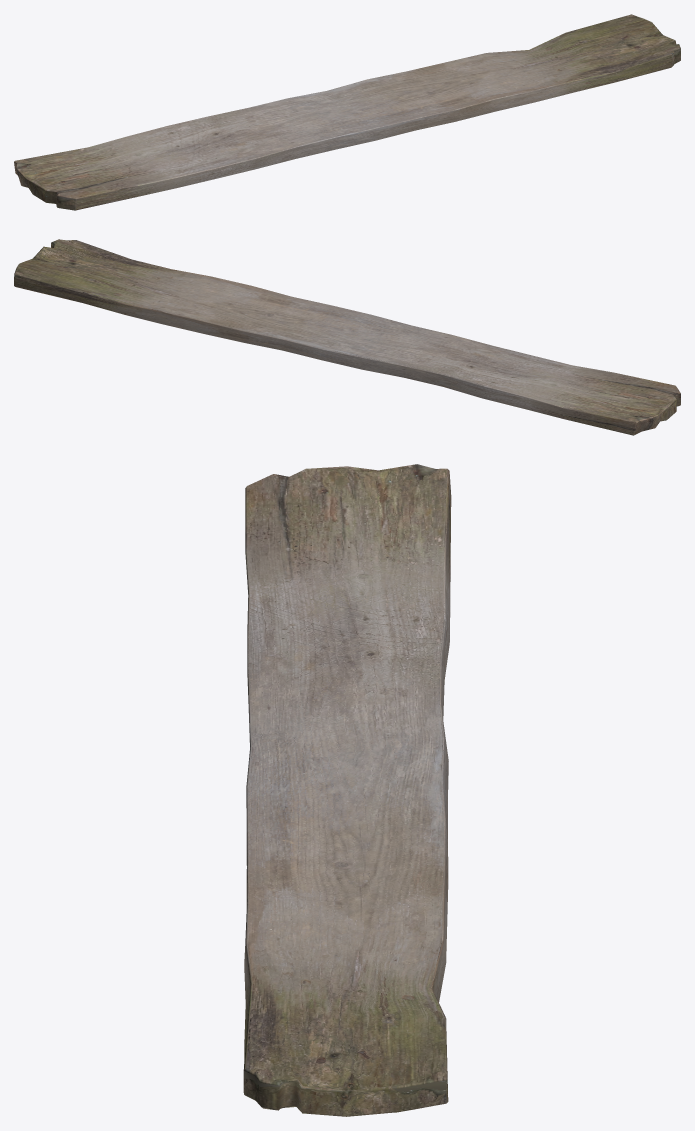
The model's file is SM_WoodPlank_01_08.fbx.
3 views of the same model, one above another, from view 1: azimuth 30°, elevation 25°; view 2: azimuth 150°, elevation 25°; view 3: azimuth 270°, elevation 25° (orthographic). The views are drawn at different scales.
Parts seen in each view (by area): view 1: sm_WoodPlank_01_08_LOD0; view 2: sm_WoodPlank_01_08_LOD0; view 3: sm_WoodPlank_01_08_LOD0.
Boxes of the visible parts, left/top/right/bottom form: sm_WoodPlank_01_08_LOD0: left=14, top=14, right=680, bottom=210; sm_WoodPlank_01_08_LOD0: left=14, top=239, right=680, bottom=435; sm_WoodPlank_01_08_LOD0: left=243, top=464, right=451, bottom=1116.
Size of the model in its own units: 21.2 by 150 by 4.54.
